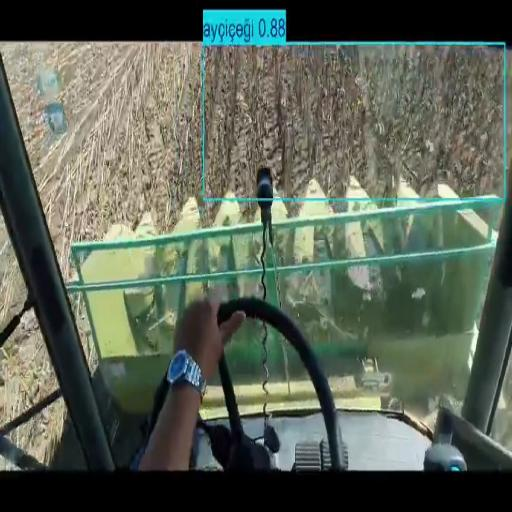ayc: (205, 45, 503, 195)
